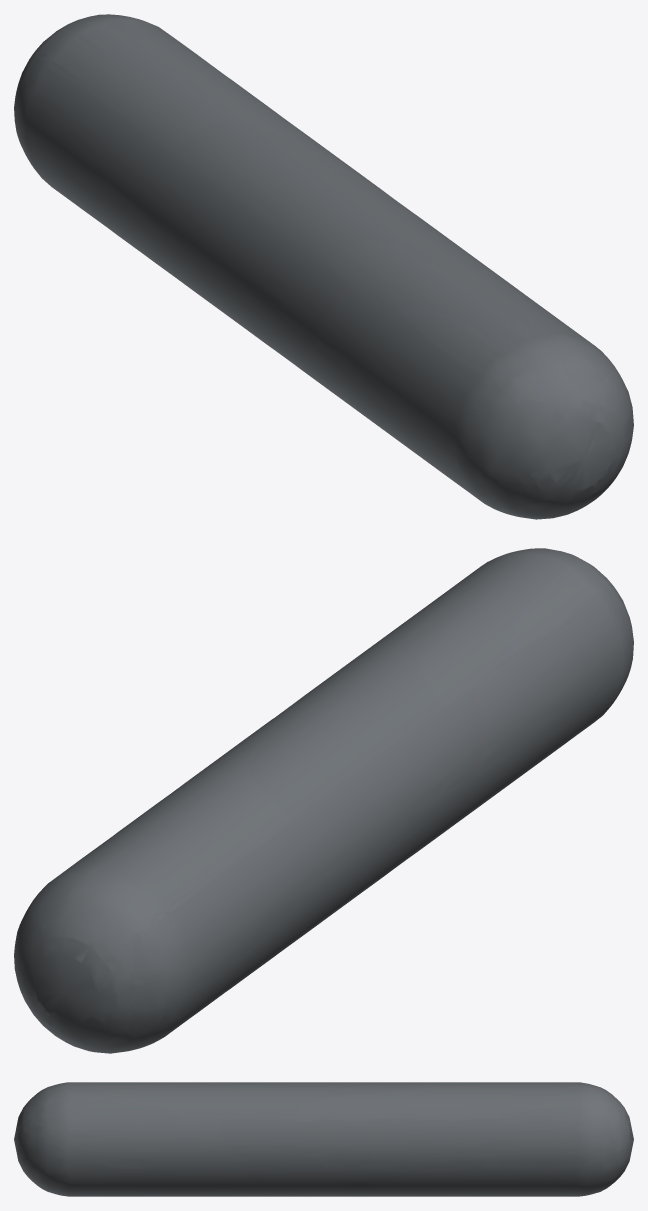
Rendered from anaaq28.glb.
3 views of the same model, one above another, from view 1: azimuth 30°, elevation 25°; view 2: azimuth 150°, elevation 25°; view 3: azimuth 270°, elevation 25° (orthographic). The views are drawn at different scales.
Parts seen in each view (by area): view 1: airframe; view 2: airframe; view 3: airframe.
Boxes of the visible parts, <box> form: airframe: <box>14,14,633,519</box>; airframe: <box>14,548,633,1053</box>; airframe: <box>14,1082,633,1196</box>.
Bounding box in the file's own units: 0.4063 × 0.4062 × 2.2.
Materials: 1 (1 with a texture image).
